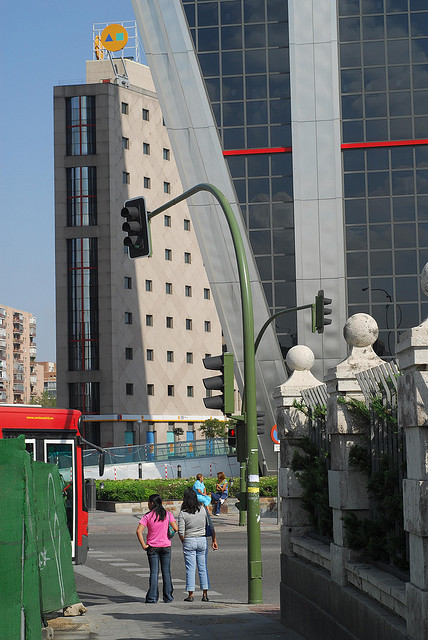Person: (180, 490, 218, 601), (140, 492, 175, 589)
Traffic Light: (119, 197, 156, 260), (201, 352, 227, 425), (317, 290, 334, 336)
